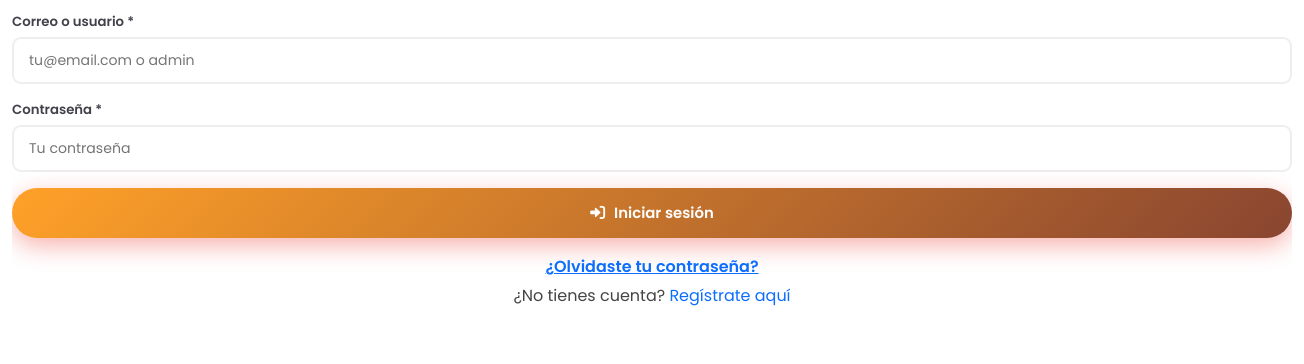
Test: FormLogin › con credenciales incorrectas muestra el mensaje de error
Type "nadie@correo.cl" into the field labelled "Correo o usuario *" at coordinates (652, 60), box x1=12 y1=37 x2=1292 y2=84
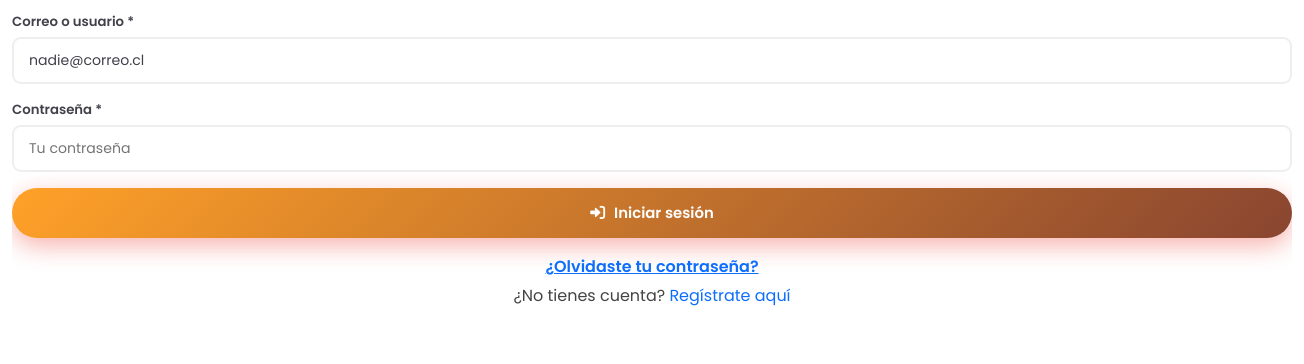
Type "Clave@123" into the password field labelled "Contraseña *" at coordinates (652, 149), box x1=12 y1=125 x2=1292 y2=172
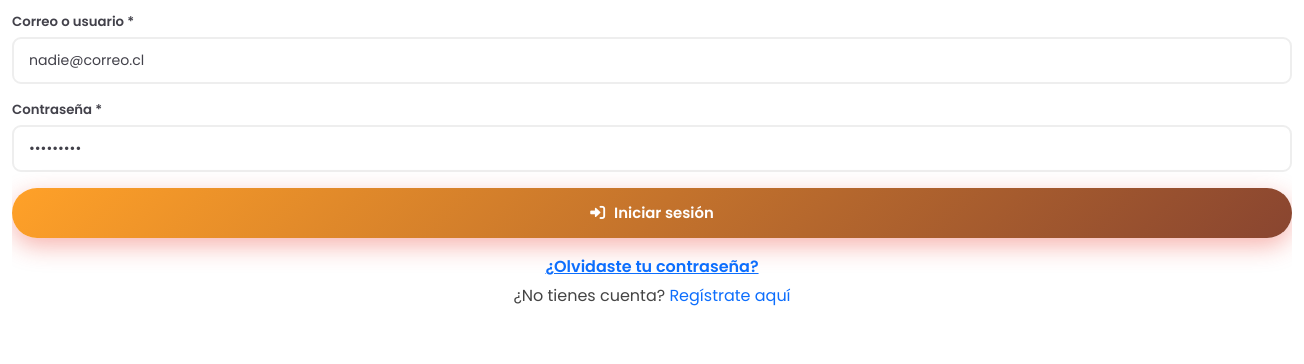
Click the button "Iniciar sesión" at coordinates (652, 213), box x1=12 y1=188 x2=1292 y2=238
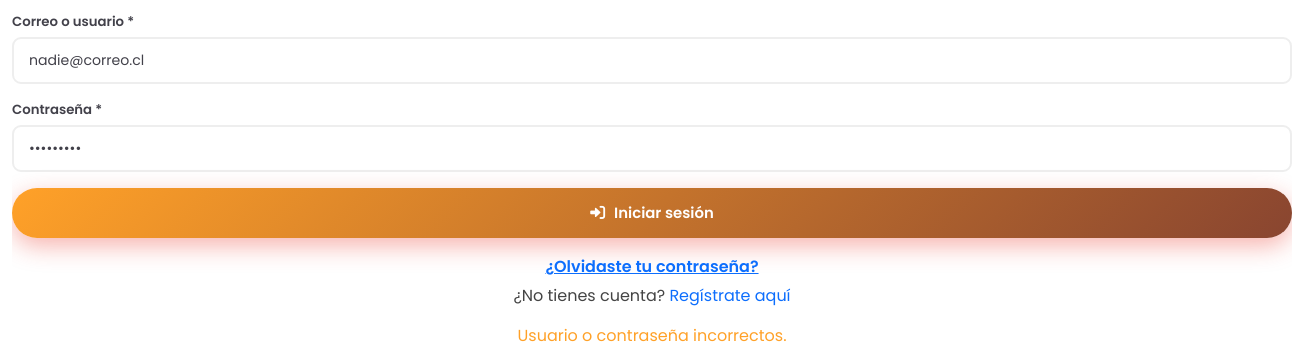
Expected: the text "Usuario o contraseña incorrectos." is shown, x1=518 y1=324 x2=786 y2=347
